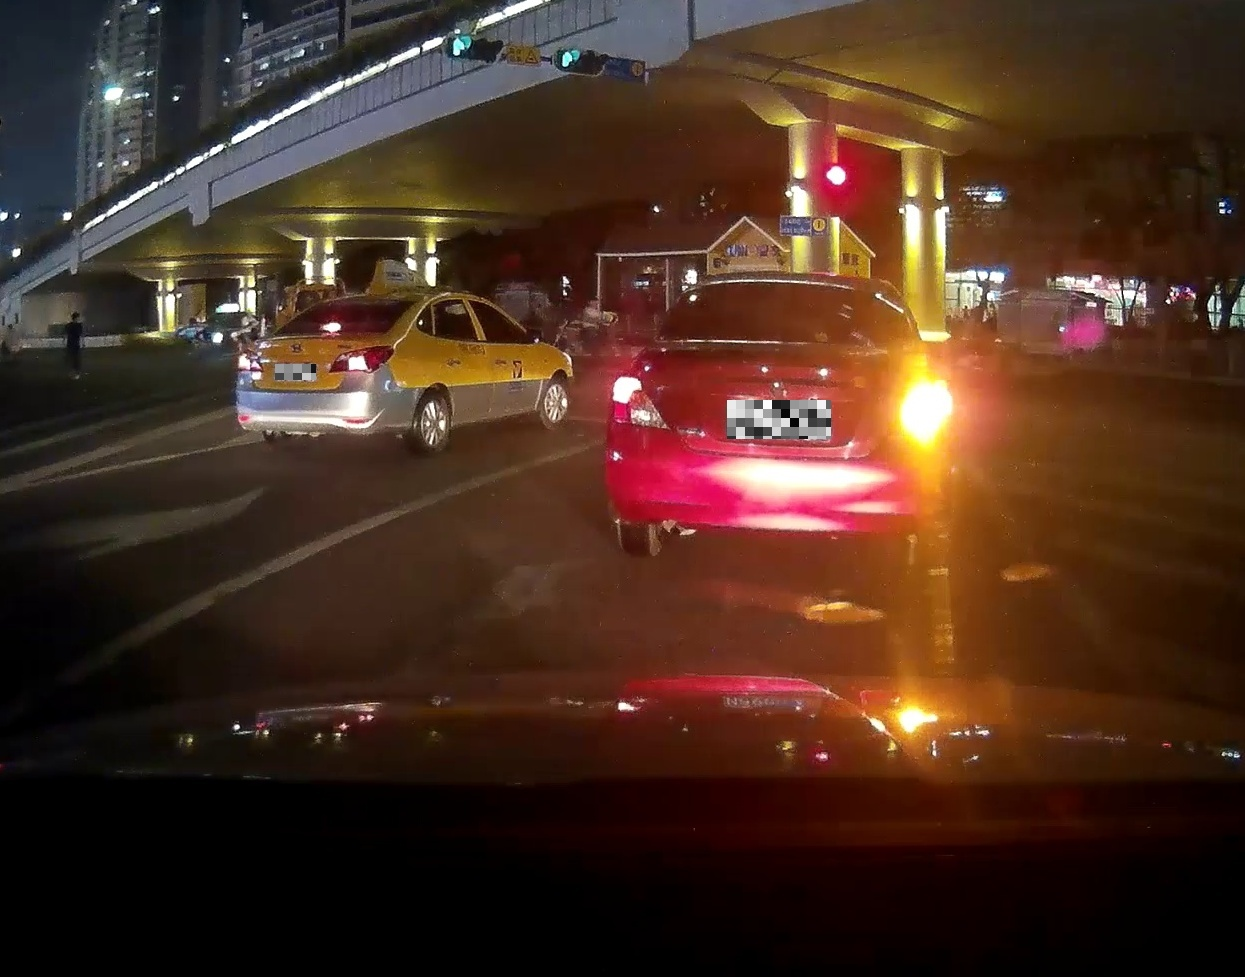L_light: (611, 375, 670, 431), (237, 349, 263, 373)
R_light: (894, 382, 947, 439), (328, 345, 394, 374)
T_light: (765, 285, 797, 295), (321, 322, 341, 331)
night-brake: (606, 273, 950, 572)
night-left: (234, 290, 417, 454)
plate_1: (275, 364, 316, 380)
plate_2: (727, 400, 831, 439)
